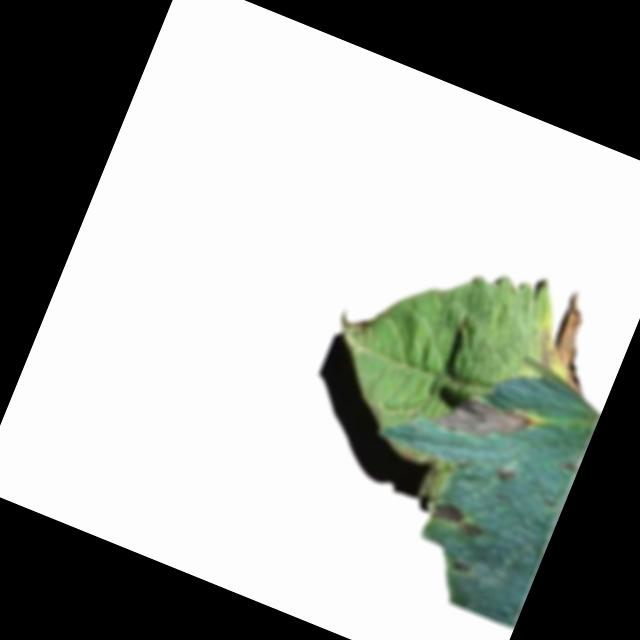Early_blight: (526, 286, 616, 398), (431, 381, 536, 461), (427, 498, 489, 539), (495, 464, 517, 486)
